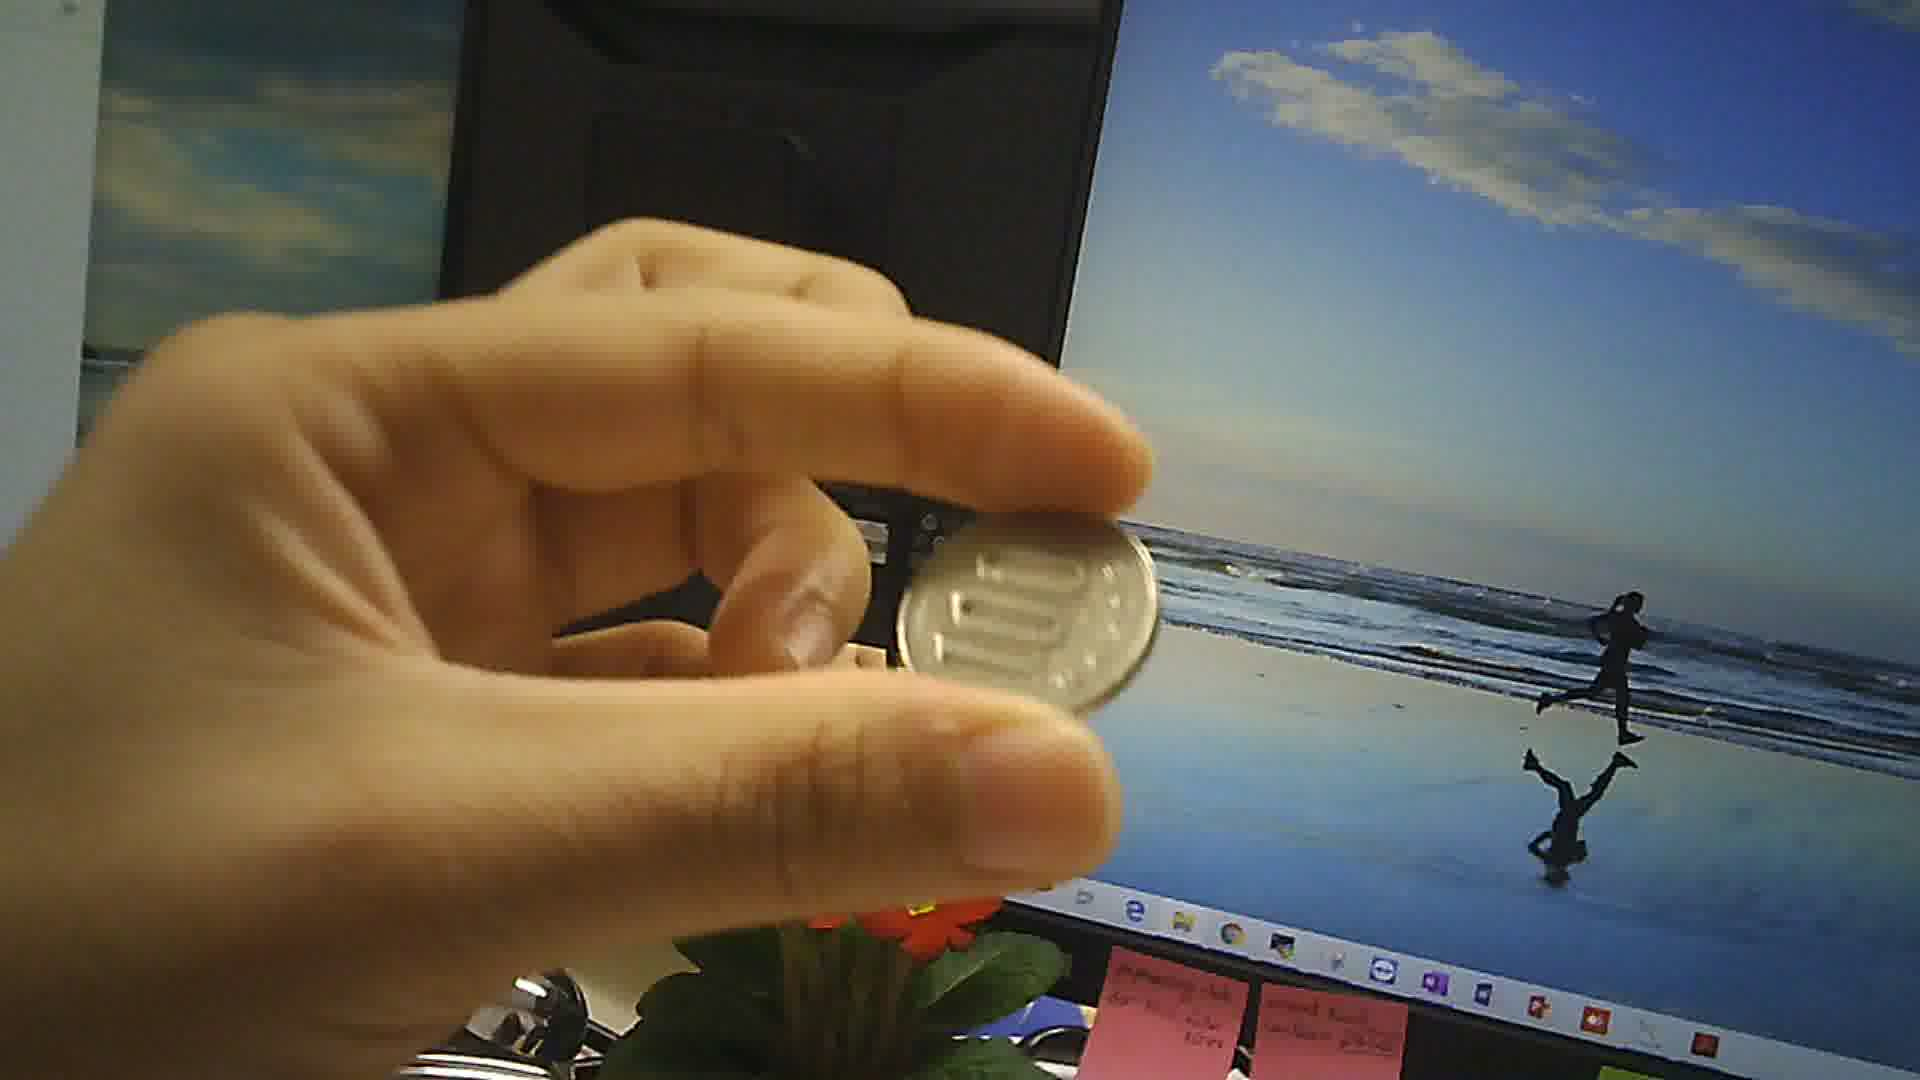100 Yen: (891, 475, 1176, 725)
